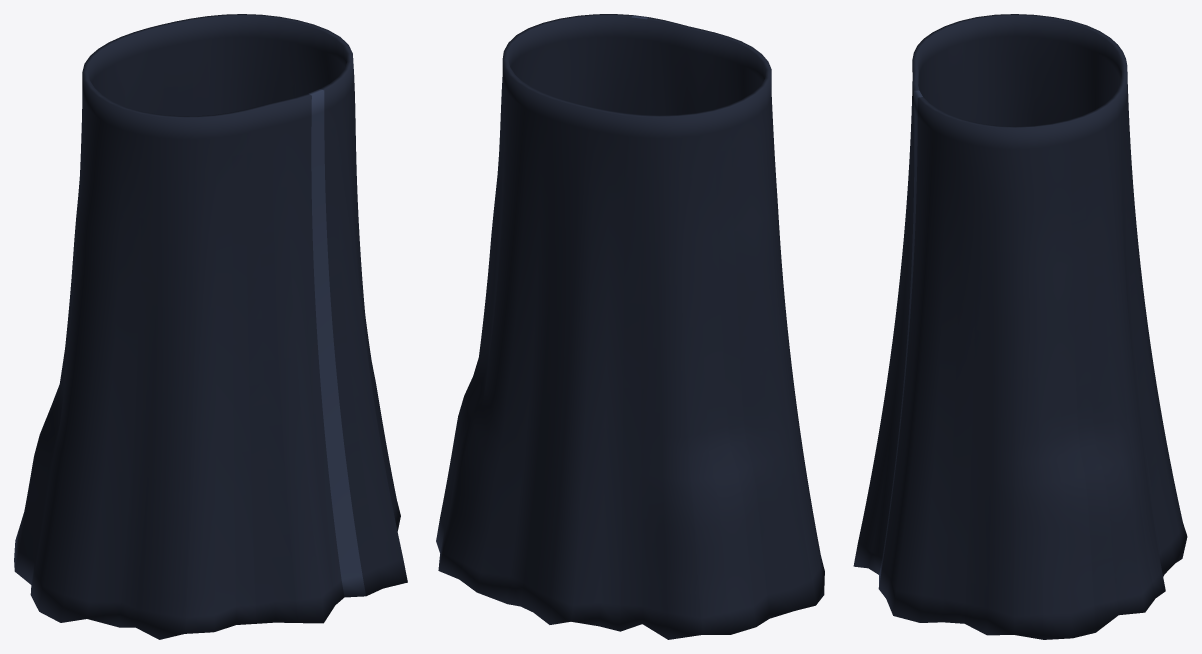
File: kupam_millaray.glb
3 renders of one model, left to right at view 1: azimuth 30°, elevation 25°; view 2: azimuth 150°, elevation 25°; view 3: azimuth 270°, elevation 25°, orthographic. The views are drawn at different scales.
Visible parts, largest first — view 1: kupam_millaray; view 2: kupam_millaray; view 3: kupam_millaray.
Boxes of the visible parts, left/top/right/bottom form: kupam_millaray: left=14, top=14, right=407, bottom=639; kupam_millaray: left=436, top=14, right=824, bottom=639; kupam_millaray: left=853, top=14, right=1187, bottom=639.
Size of the model in its own units: 0.5738 by 0.7657 by 0.4739.
